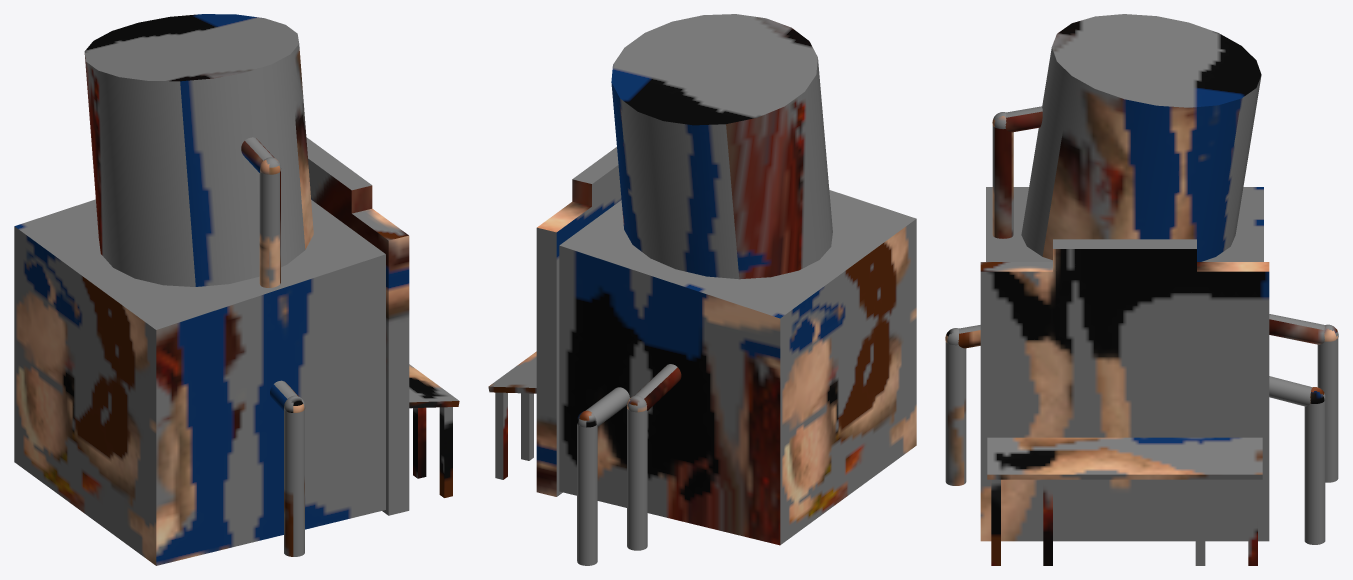
The model's file is saloon.fbx.
3 renders of one model, left to right at view 1: azimuth 30°, elevation 25°; view 2: azimuth 150°, elevation 25°; view 3: azimuth 270°, elevation 25°, orthographic. The views are drawn at different scales.
Parts seen in each view (by area): view 1: pCylinder3; view 2: pCylinder3; view 3: pCylinder3.
Boxes of the visible parts, x1,y1,x2,y2 form: pCylinder3: (14, 14, 459, 565); pCylinder3: (488, 14, 916, 565); pCylinder3: (945, 14, 1338, 565).
Bounding box in the file's own units: 14.73 × 22.18 × 16.86.
